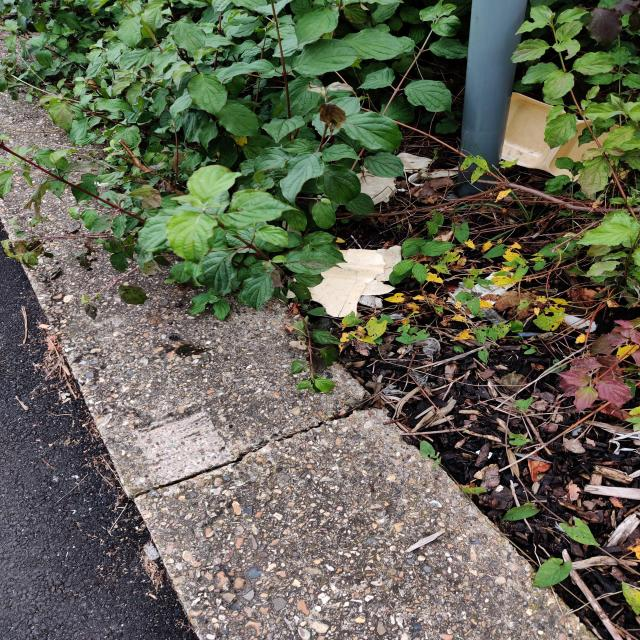litter: (502, 92, 632, 191), (445, 272, 596, 339), (286, 246, 401, 317)
